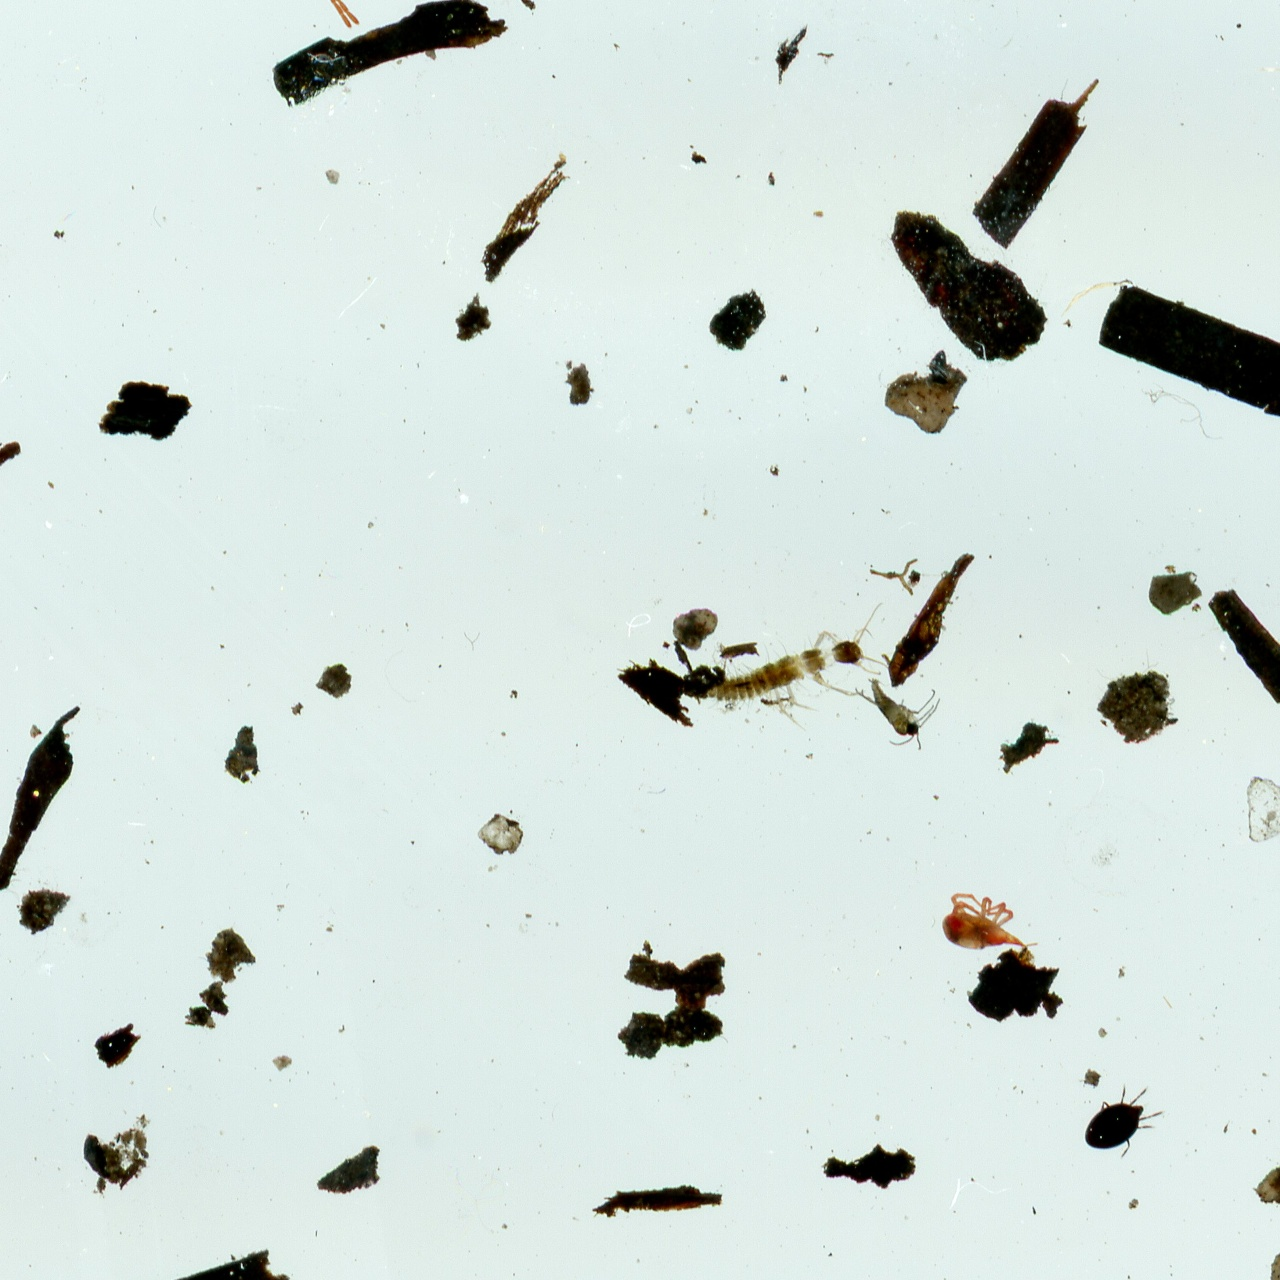arthropod: (655, 623, 881, 704), (940, 878, 1037, 951), (861, 672, 950, 741), (1084, 1083, 1162, 1157), (274, 0, 376, 29)
